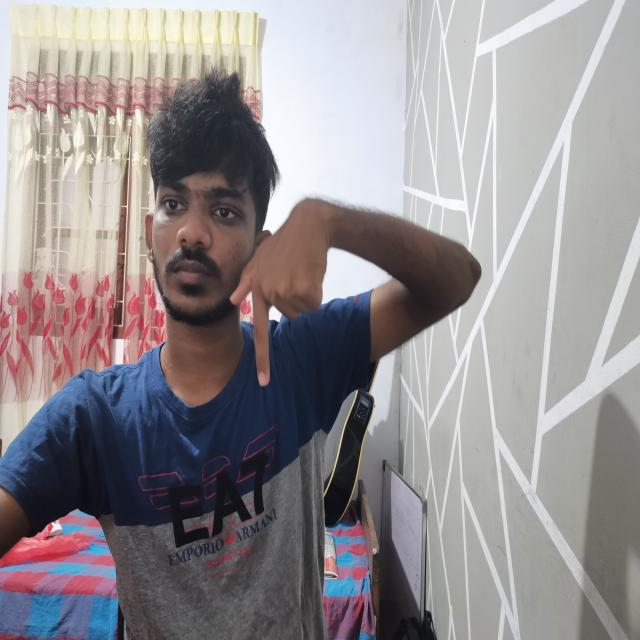Yes: (227, 187, 329, 391)
